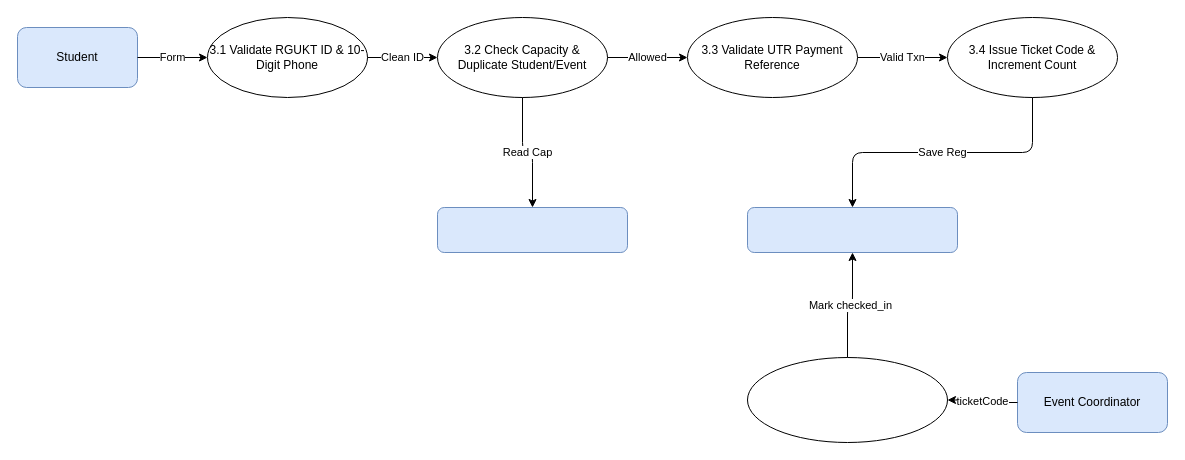
Image size: 1185x460. Some labels were removed from this diagram. The shapes that lost their labels are listed below. From the top down, each one's box as (x1, y1, x2, y2) in pixels, then its label:
(436, 206, 628, 252): D3 events.json
(746, 206, 958, 252): D4 registrations.json
(746, 356, 948, 442): 4.1 Gate Ticket Lookup & Single Check-In Lock
